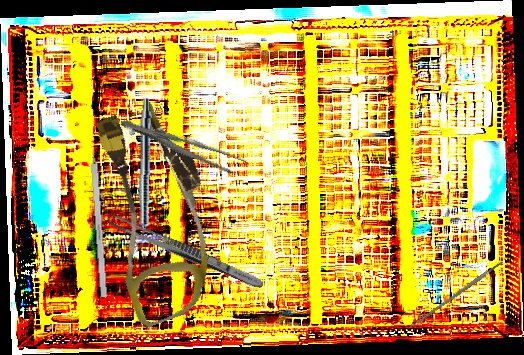Cannula: (69, 95, 242, 330)
Dressing Forceps: (107, 212, 267, 293), (117, 112, 250, 179)
Handpiece: (135, 97, 152, 253)
Hook Surgical: (88, 133, 108, 298)
Scalpel Handle: (406, 260, 505, 331)
